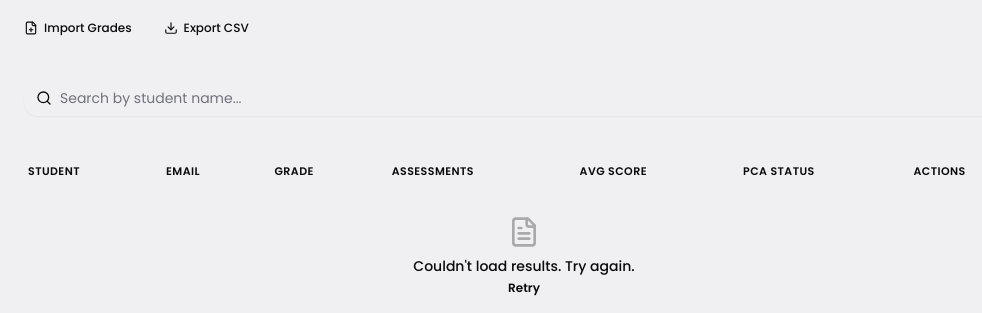
Scenario: a failed load says so, with Retry, instead of 'No results found' (audit F)
Check: the cell with test id "results-load-error" shows "Couldn't load results", box [413, 256, 635, 276]
Check: the text "No results found" is not shown
What coordinates should you click on to do the following:
click the button "Retry"
I would click on:
 (524, 288)
Its box is [508, 280, 540, 296].
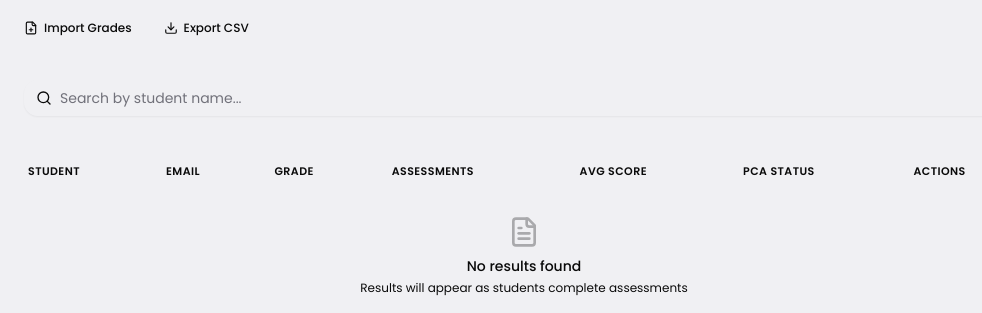
Check: the text "No results found" is shown, box [467, 256, 581, 276]
